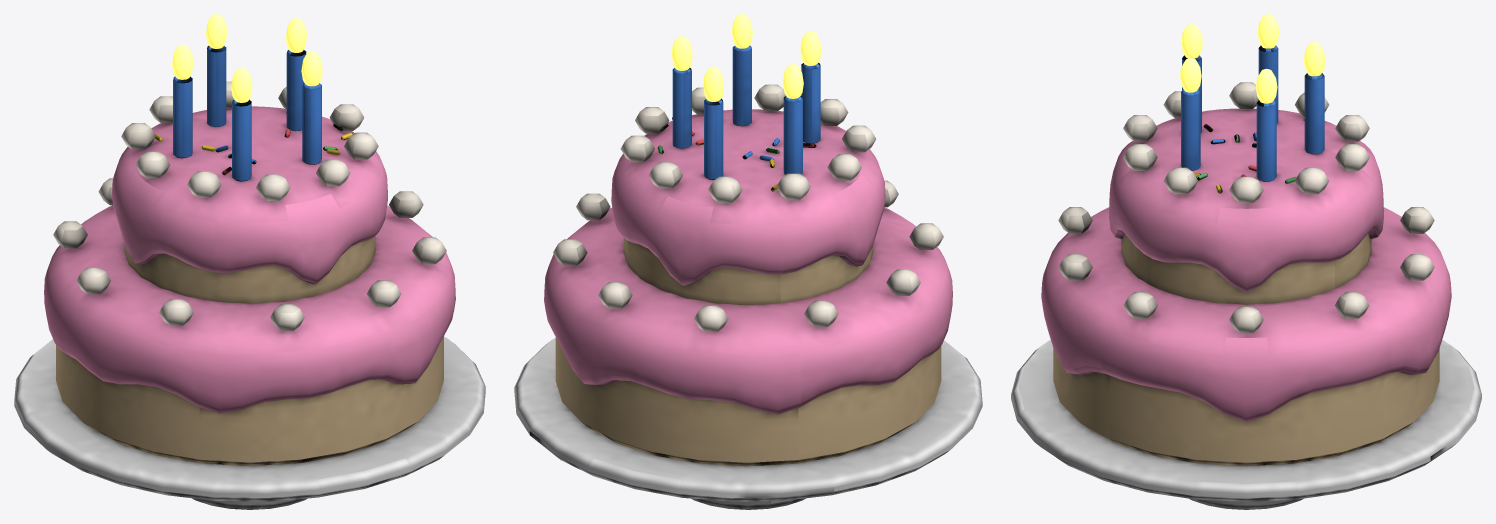
File: birthday_cake.glb
3 views of the same model, side by side, from view 1: azimuth 30°, elevation 25°; view 2: azimuth 150°, elevation 25°; view 3: azimuth 270°, elevation 25° (orthographic).
Parts seen in each view (by area): view 1: birthday_cake; view 2: birthday_cake; view 3: birthday_cake.
Part boxes in pixels (x1,y1,x2,y2): birthday_cake: (14,14,485,509); birthday_cake: (514,14,982,509); birthday_cake: (1011,14,1481,509).
Size of the model in its own units: 0.38 by 0.3885 by 0.38.
Materials: 10 (9 with a texture image).
